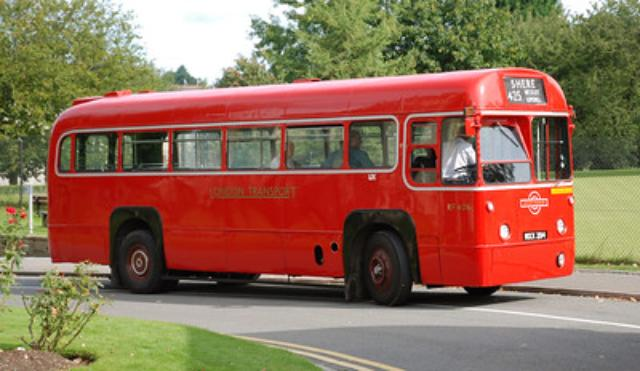bus: (46, 67, 576, 309)
